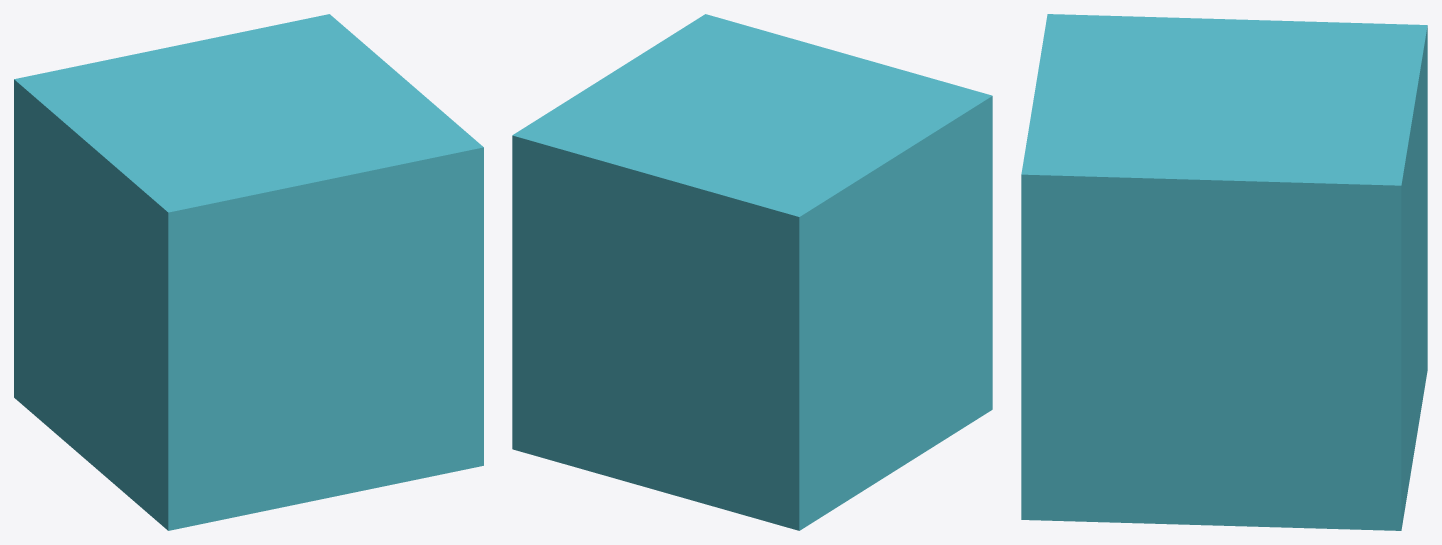
The model's file is 1006_chimney.glb.
3 renders of one model, left to right at view 1: azimuth 30°, elevation 25°; view 2: azimuth 150°, elevation 25°; view 3: azimuth 270°, elevation 25°, orthographic. The views are drawn at different scales.
Parts seen in each view (by area): view 1: Box004; view 2: Box004; view 3: Box004.
Boxes of the visible parts, box(x1,y1,x2,y2) form: Box004: box(14, 14, 483, 530); Box004: box(512, 14, 992, 530); Box004: box(1021, 14, 1427, 530).
Bounding box in the file's own units: 0.8853 × 0.8302 × 0.8853.
